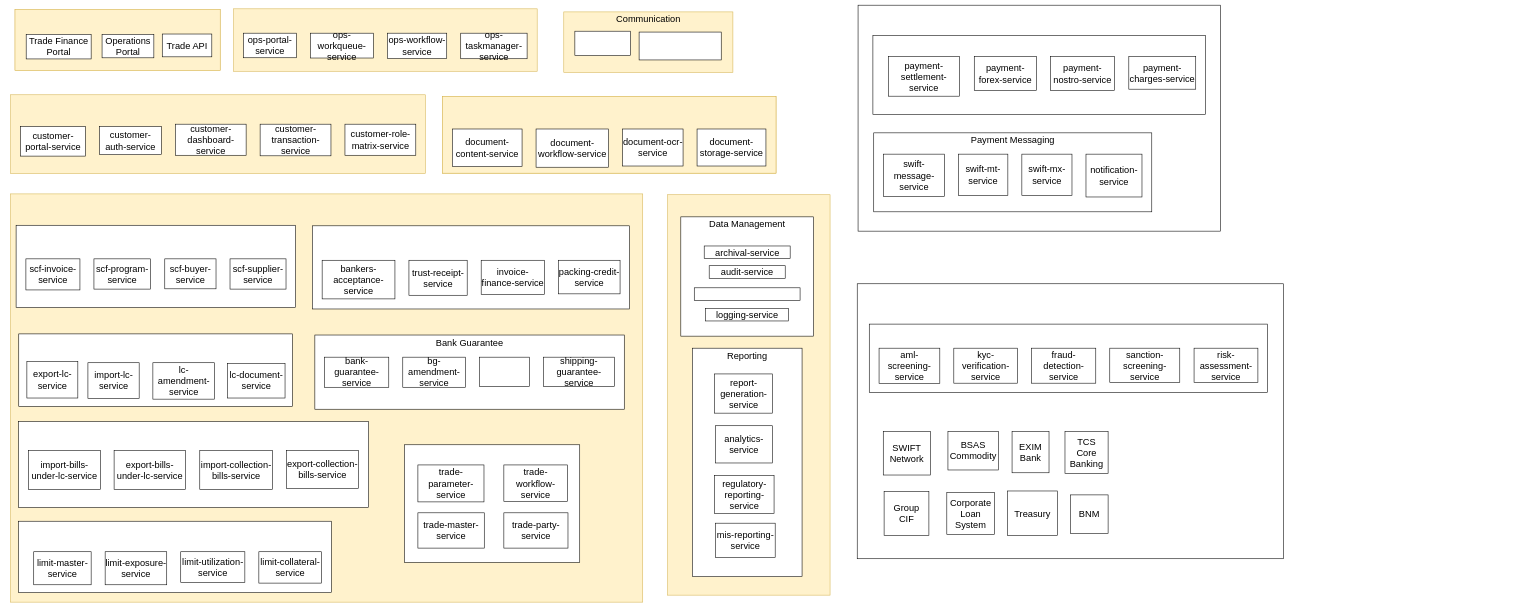
Some shapes in this 1529 by 607 pixel diagram are drawn without their labels. Each missing label, with the box of its shape:
(External) Risk & Compliance: (869, 324, 1268, 393)
bg-claim-service: (479, 357, 529, 387)
Bills & Collections: (18, 421, 369, 508)
Channels: (15, 9, 220, 71)
correspondence-service: (639, 32, 721, 60)
Customer Channel Services: (10, 94, 425, 174)
Data Services: (667, 194, 830, 595)
Document Management: (442, 96, 776, 173)
email-service: (574, 31, 631, 56)
Enterprise Payments: (858, 5, 1221, 231)
External Integration: (857, 283, 1284, 559)
housekeeping-service: (694, 287, 800, 301)
Letter of Credit: (18, 333, 292, 407)
Limit Management: (18, 521, 332, 593)
Operations Channel Services: (233, 8, 537, 71)
Payment Services: (872, 35, 1206, 115)
Supply Chain Finance: (16, 225, 296, 308)
Trade Core: (404, 444, 580, 563)
Trade Finance: (312, 225, 630, 309)
Trade Services: (10, 193, 643, 602)
